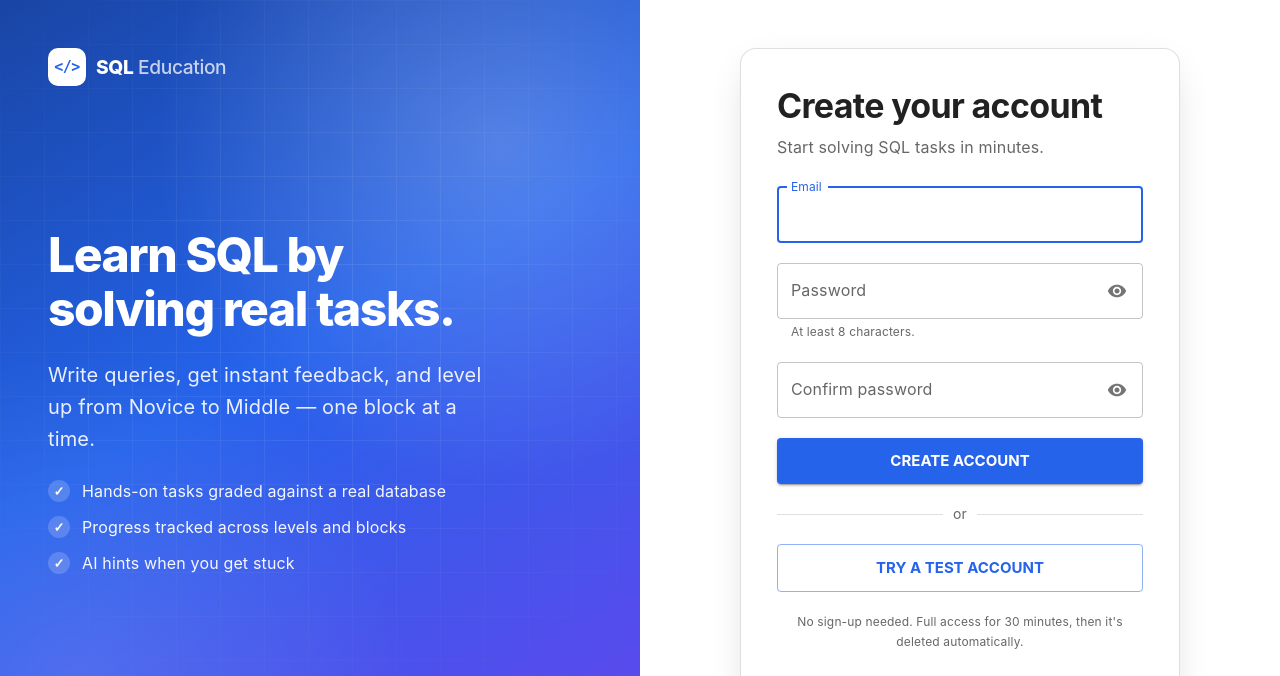
Test case: RegisterPage › shows the per-IP cooldown message on a 429 TEST_ACCOUNT_RATE_LIMITED
Click the button "Try a test account". click: (960, 568)
box: [777,544,1143,592]
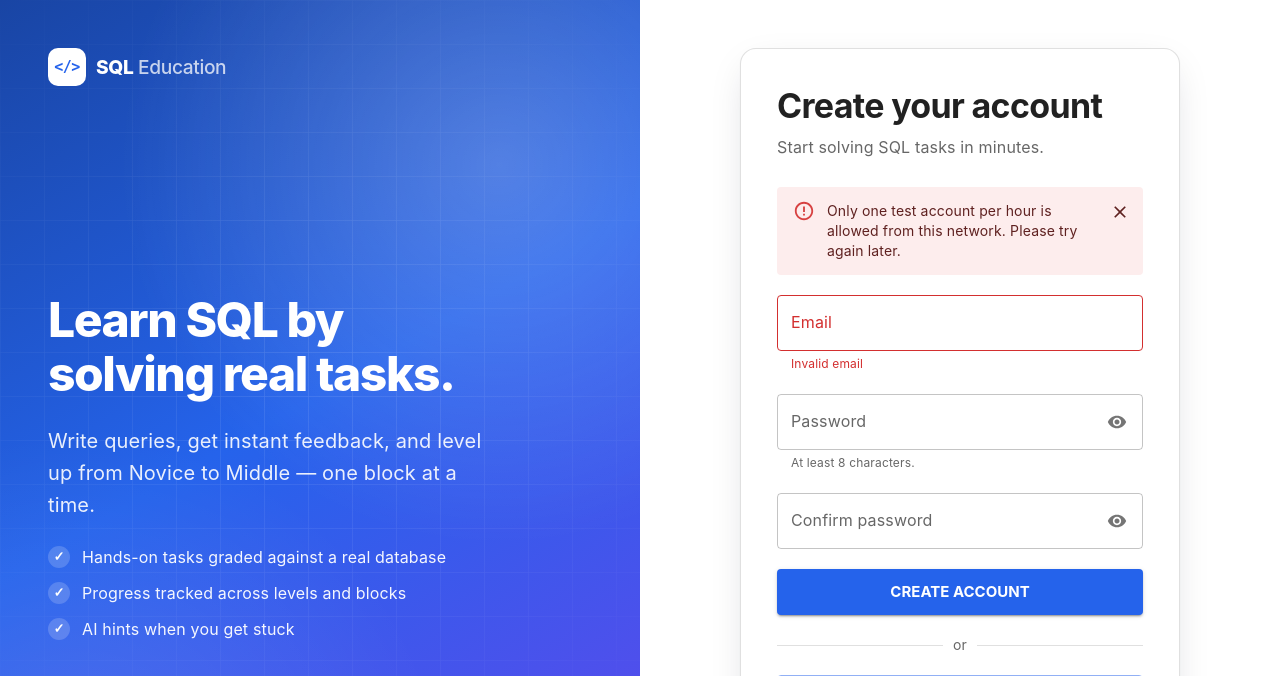
Expected: the text "Only one test account per hour" is shown, [827,202,1078,259]
